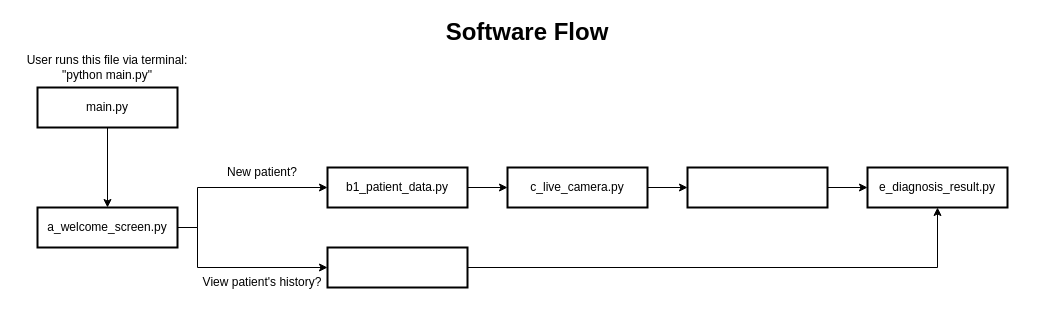
Image size: 1054x314. Some labels were removed from this diagram. Each missing label, with the box of its shape:
b2_diagnosis_history.py: (326, 246, 468, 288)
d_loading_screen.py: (686, 166, 828, 208)
